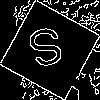S: (25, 25, 70, 78)
